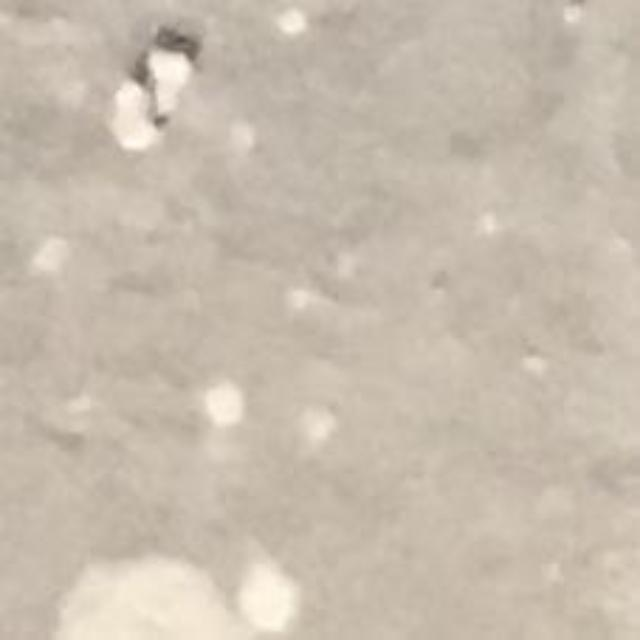peeling plaster: (60, 556, 296, 639)
